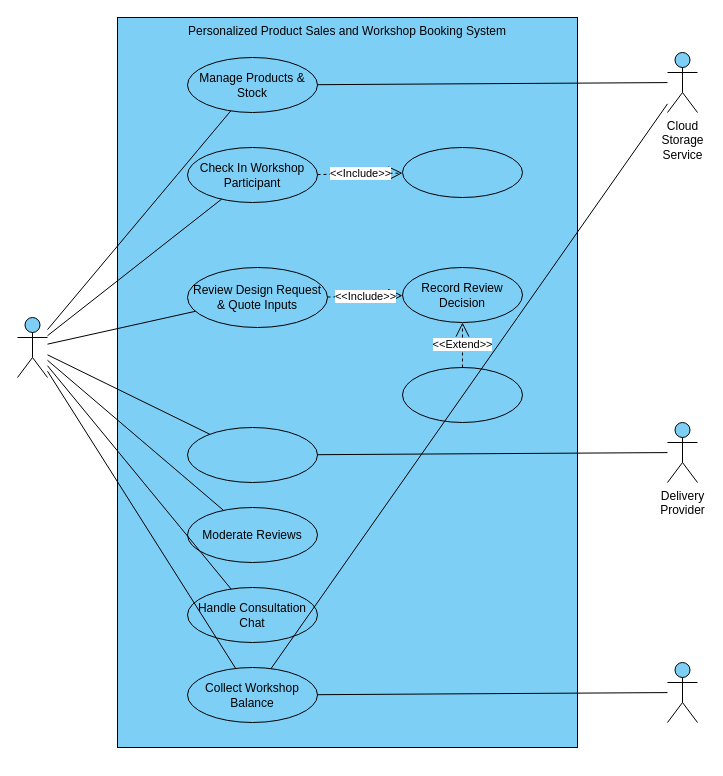
Image size: 723x776. Some labels were removed from this diagram. The shapes that lost their labels are listed below. From the top down, each one's box as (x1, y1, x2, y2) in pixels, then its label:
(402, 146, 522, 198): Scan QR Code Ticket
(16, 316, 48, 378): Staff
(402, 366, 522, 422): Record Rejection Reason
(186, 426, 318, 482): Process Order Fulfillment
(666, 662, 698, 722): Payment Gateway
